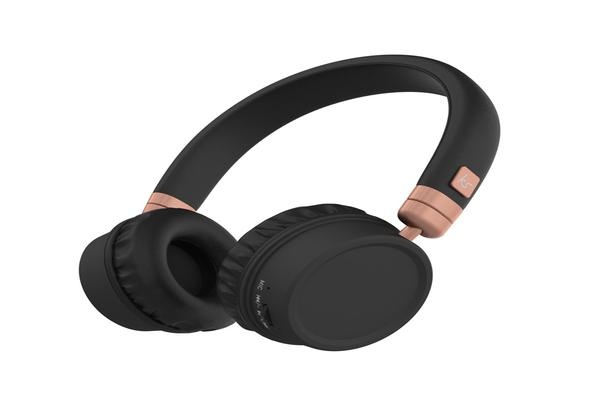headphone: (69, 33, 513, 379)
